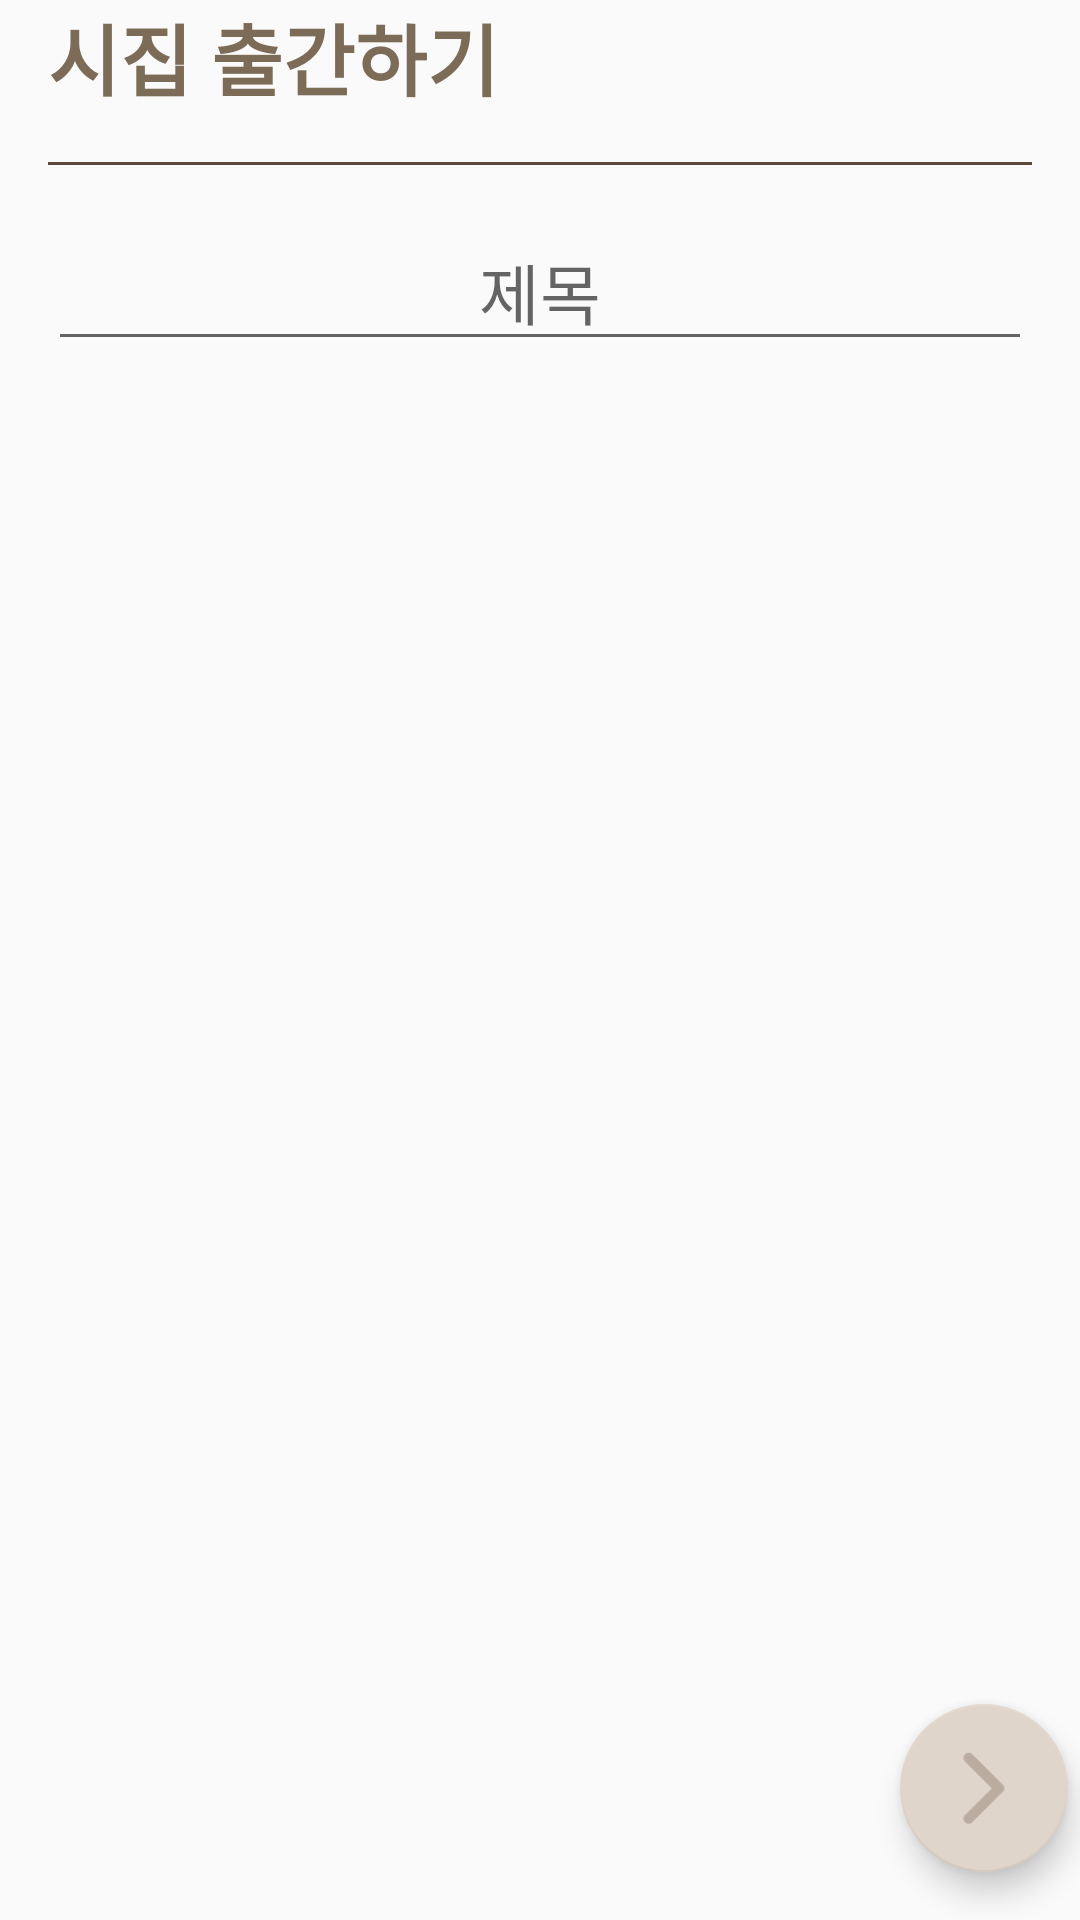

Screen size 1080 × 1920. Icon name, then its box in pixels as {"left": x1, "top": y1, "right": x2, "bottom": y2}:
right: {"left": 900, "top": 1704, "right": 1068, "bottom": 1872}
